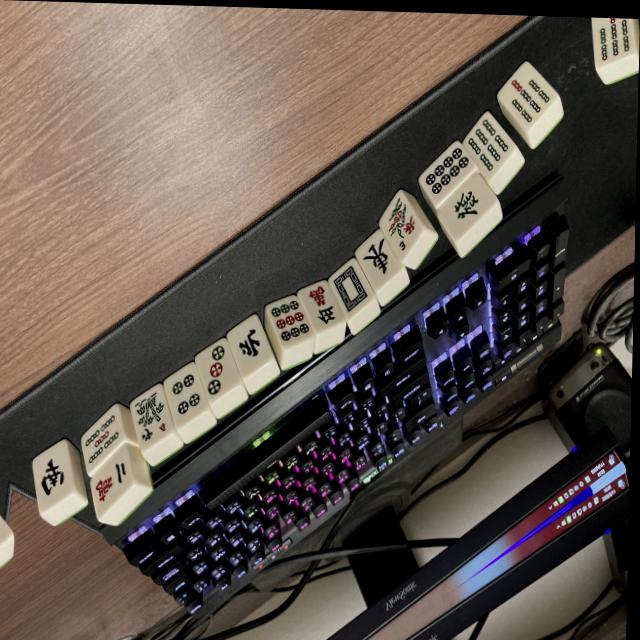bai: (325, 259, 377, 320)
east: (351, 230, 405, 292)
f4: (125, 387, 179, 451)
fa: (434, 171, 499, 243)
ff3: (373, 190, 426, 260)
m2: (84, 447, 137, 519)
m5: (297, 278, 346, 333)
north: (223, 317, 275, 377)
s5: (76, 408, 129, 473)
s6: (460, 112, 518, 178)
s7: (495, 63, 558, 132), (590, 18, 638, 67)
south: (30, 439, 80, 515)
t3: (189, 338, 243, 403)
t4: (157, 363, 210, 426)
t8: (417, 140, 479, 209)
t9: (263, 295, 314, 351)
